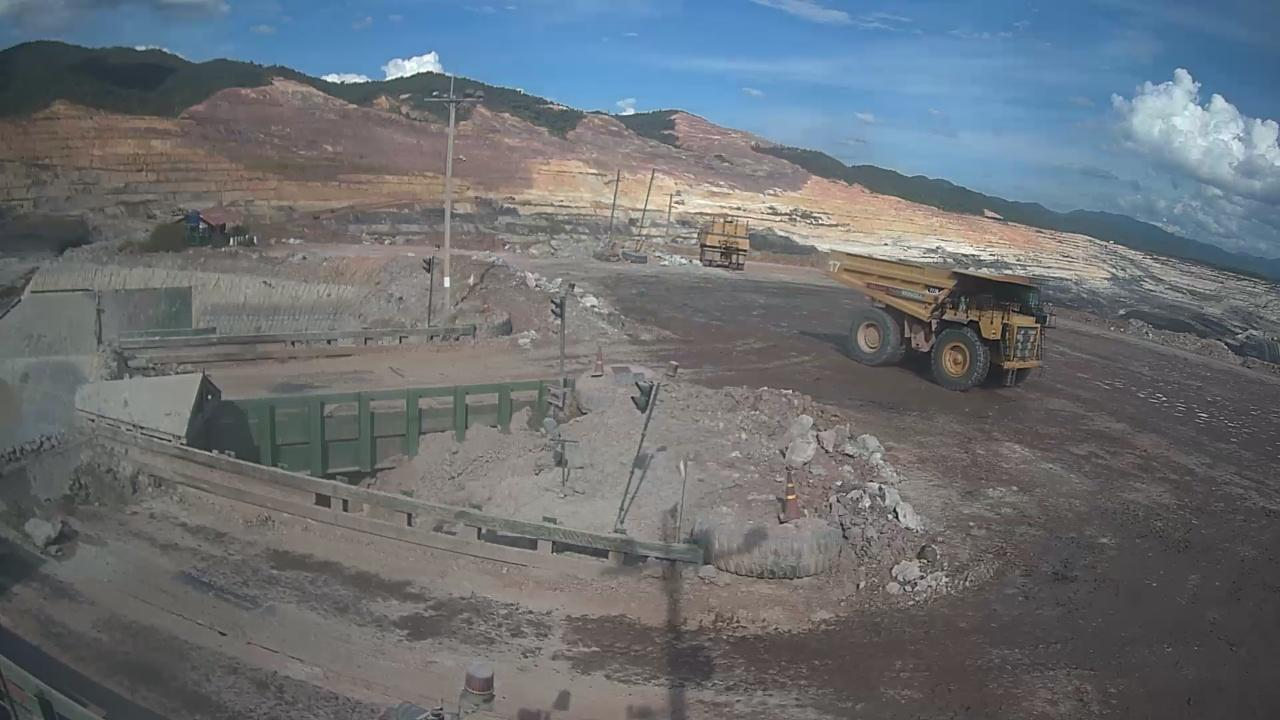mining_truck: (821, 245, 1053, 391)
tail_number: (826, 258, 843, 277)
